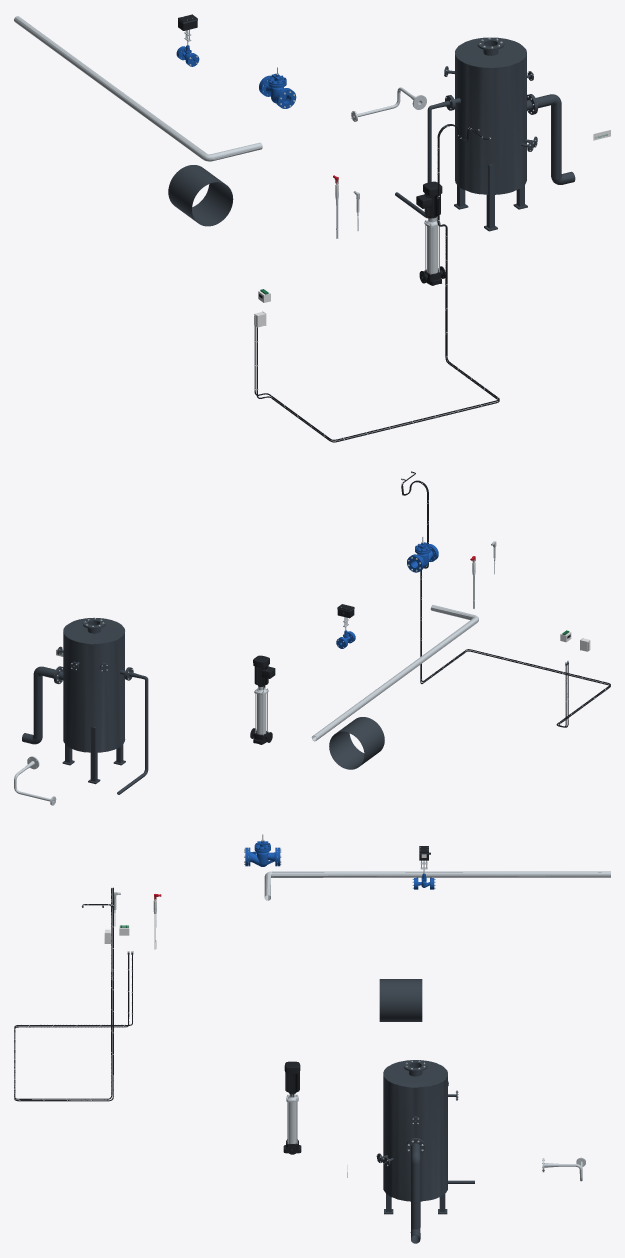
Rendered from s4000-3-DmSf2Vvx.glb.
3 views of the same model, one above another, from view 1: azimuth 30°, elevation 25°; view 2: azimuth 150°, elevation 25°; view 3: azimuth 270°, elevation 25° (orthographic). The views are drawn at different scales.
Visible parts, largest first — view 1: separator_bdv60_5 / dark, flue_spacer / dark, safety_vent_1 / steel, bdv_water_drain / dark, wiring_pressure_switch_1 / black, wiring_pressure_switch_2 / black, bottom_to_bdv / dark, pump_2 CAD solid 15; view 2: separator_bdv60_5 / dark, flue_spacer / dark, safety_vent_1 / steel, bdv_water_drain / dark, wiring_pressure_switch_1 / black, wiring_pressure_switch_2 / black, bottom_to_bdv / dark, pump_2 CAD solid 15; view 3: separator_bdv60_5 / dark, safety_vent_1 / steel, flue_spacer / dark, bdv_water_drain / dark, wiring_pressure_switch_1 / black, wiring_pressure_switch_2 / black, gpz CAD solid 0.
Boxes of the visible parts, <box> form: separator_bdv60_5 / dark: <box>444,37,537,231</box>; flue_spacer / dark: <box>168,165,233,226</box>; safety_vent_1 / steel: <box>14,16,262,161</box>; bdv_water_drain / dark: <box>530,94,575,184</box>; wiring_pressure_switch_1 / black: <box>256,124,499,442</box>; wiring_pressure_switch_2 / black: <box>254,124,499,440</box>; bottom_to_bdv / dark: <box>395,95,454,218</box>; pump_2 CAD solid 15: <box>416,181,442,217</box>; separator_bdv60_5 / dark: <box>55,617,129,784</box>; flue_spacer / dark: <box>329,717,384,769</box>; safety_vent_1 / steel: <box>311,605,478,741</box>; bdv_water_drain / dark: <box>22,666,60,744</box>; wiring_pressure_switch_1 / black: <box>401,472,610,727</box>; wiring_pressure_switch_2 / black: <box>402,479,610,727</box>; bottom_to_bdv / dark: <box>117,667,148,794</box>; pump_2 CAD solid 15: <box>253,655,275,686</box>; separator_bdv60_5 / dark: <box>376,1060,457,1214</box>; safety_vent_1 / steel: <box>264,871,610,900</box>; flue_spacer / dark: <box>379,979,422,1021</box>; bdv_water_drain / dark: <box>406,1138,424,1243</box>; wiring_pressure_switch_1 / black: <box>14,887,129,1101</box>; wiring_pressure_switch_2 / black: <box>14,888,132,1099</box>; gpz CAD solid 0: <box>248,834,277,866</box>.
Bounding box in the file's own units: 5.99 × 3.29 × 7.03.
